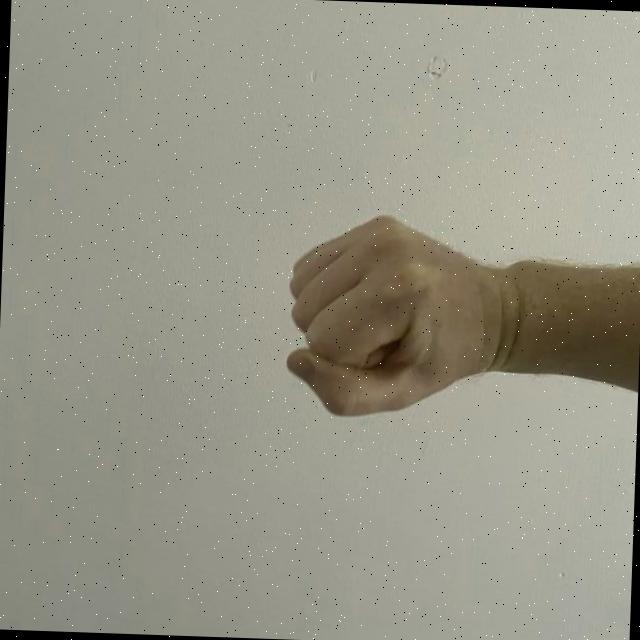rock: (278, 209, 545, 425)
